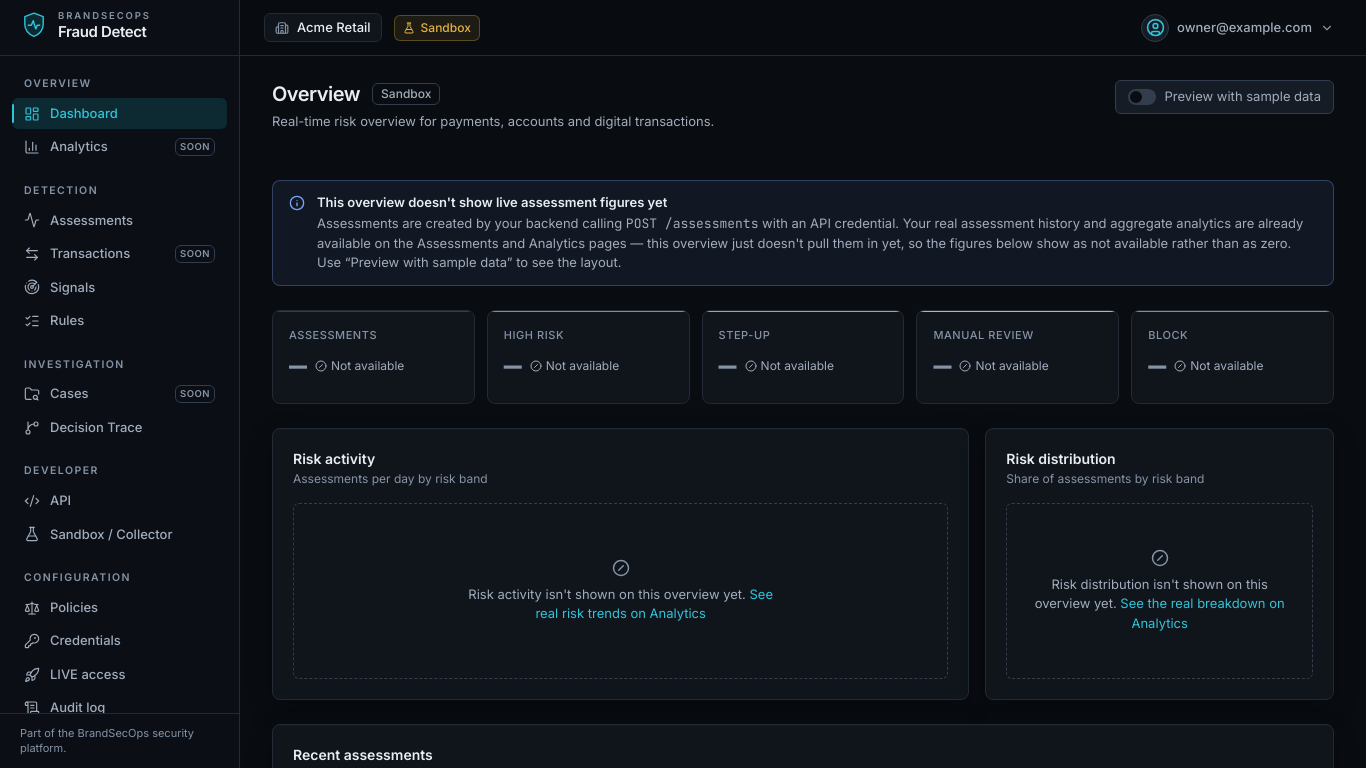
Test: Developer navigation group (Wave 32B) › clicking Sandbox / Collector from the dashboard navigates to the sandbox page
What coordinates should you click on to do the following:
click the link "Sandbox / Collector"
I would click on:
 (98, 534)
Its box is [24,526,172,542].
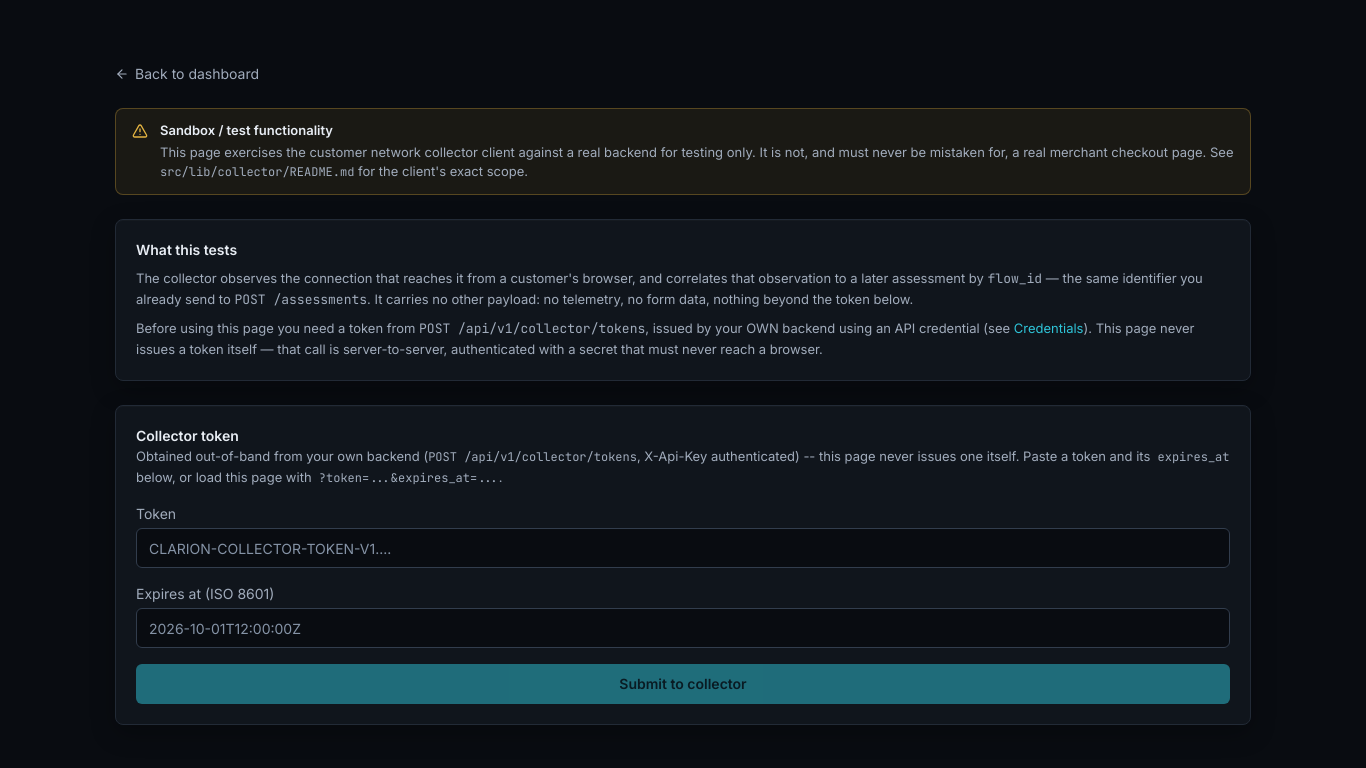
Result: the text "Sandbox / test functionality" is shown at [160,122,333,138]
